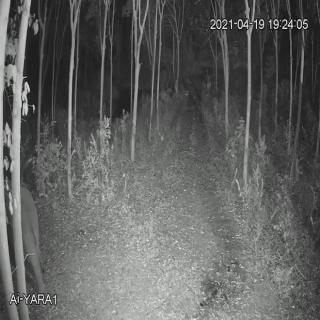Elephant: (7, 175, 51, 294)
